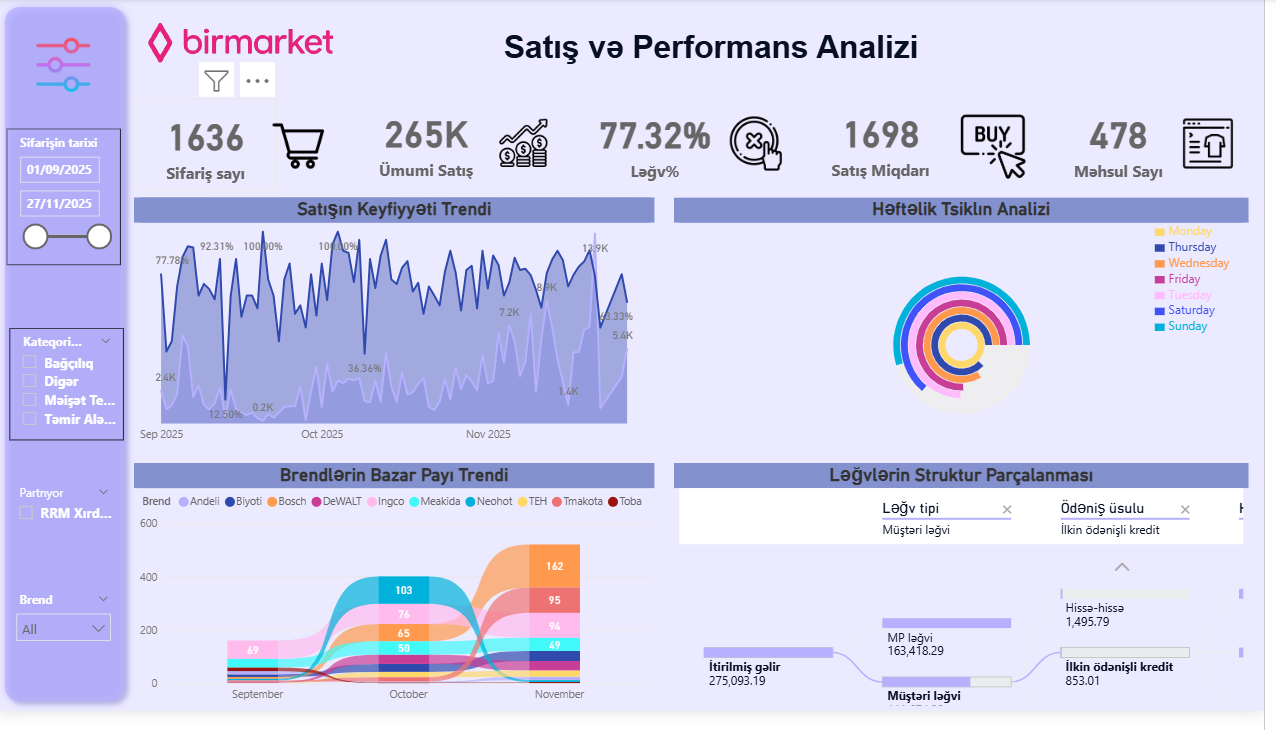

The dashboard page shown, as its layout file describes it:
{"tool":"powerbi","page":{"name":"Əsas səhifə","canvas":[1280,720],"ordinal":1},"visuals":[{"type":"shape","box":[0,0,139.3,719.2],"z":0},{"type":"card","fields":{"Values":["Export.Sifariş sayı"]},"box":[139.3,101.5,143.8,92.4],"z":1000},{"type":"card","fields":{"Values":["Export.Ümumi Satış"]},"box":[354.3,101.5,159,86.3],"z":2000},{"type":"card","fields":{"Values":["Export.Ləğv"]},"box":[596.6,96.9,136.3,98.4],"z":3000},{"type":"card","fields":{"Values":["Export.Məhsul Sayı"]},"box":[1059.9,103,145.4,86.3],"z":4000},{"type":"card","fields":{"Values":["Export.Satış Miqdarı"]},"box":[831.3,101.5,122.7,86.3],"z":5000},{"type":"areaChart","title":"Satışın Keyfiyyəti Trendi","fields":{"Y":["Export.Ümumi Satış"],"Category":["Export.Sifarişin tarixi"],"Y2":["Export.Ləğv%"]},"box":[139.3,201.4,525.4,255.9],"z":6000},{"type":"ribbonChart","title":"Brendlərin Bazar Payı Trendi","fields":{"Category":["Export.Sifarişin tarixi.Variation.Date Hierarchy.Month","Export.Sifarişin tarixi.Variation.Date Hierarchy.Day"],"Y":["Export.Sifariş sayı"],"Series":["Dim_Brend.Brend"]},"box":[139.3,469.4,525.4,249.8],"z":7000},{"type":"decompositionTreeVisual","title":"Ləğvlərin Struktur Parçalanması","fields":{"Analyze":["Export.İtirilmiş gəlir"],"ExplainBy":["Export.Ləğv tipi","Export.Ödəniş üsulu","Export.Həftənin günü"]},"box":[684.4,469.4,579.9,249.8],"z":8000},{"type":"reactRadialChartF56816441CDA4609A764E20CE1E2AE56","title":"Həftəlik Tsiklın Analizi","fields":{"category":["Export.Həftənin günü"],"measure":["Export.Sifariş sayı"]},"box":[684.4,201.4,579.9,277.1],"z":9000},{"type":"slicer","fields":{"Values":["Export.Sifarişin tarixi"]},"box":[11.3,132.3,115.3,138],"z":10000},{"type":"slicer","fields":{"Values":["Export.Kateqoriya Qrupu"]},"box":[13.2,332.6,115.3,113.4],"z":11000},{"type":"textbox","box":[354.4,26.1,734.9,61.4],"z":12000},{"type":"image","box":[125.8,15.3,276.2,81.3],"z":13000},{"type":"slicer","fields":{"Values":["Export.Partnyor"]},"box":[11.3,485.7,115.3,73.7],"z":14000},{"type":"slicer","fields":{"Values":["Export.Brend"]},"box":[11.3,593.4,115.3,94.5],"z":15000},{"type":"image","box":[10.8,35.1,114.9,64.9],"z":16000},{"type":"image","box":[734.4,113.6,65.1,66.6],"z":17000},{"type":"image","box":[266.5,118.1,77.2,62.1],"z":18000},{"type":"image","box":[502.7,116.6,59.1,59.1],"z":19000},{"type":"image","box":[953.9,112.1,106,75.7],"z":20000},{"type":"image","box":[1167.5,113.6,112.1,66.6],"z":21000}]}

Visuals, with their boxes in screenshot pixels (x1, y1, x2, y2), scaled from the page's 1280x720 canvas onto the 1276x730 screenshot:
shape: {"left": 0, "top": 0, "right": 139, "bottom": 729}
card - Export.Sifariş sayı: {"left": 139, "top": 103, "right": 282, "bottom": 197}
card - Export.Ümumi Satış: {"left": 353, "top": 103, "right": 512, "bottom": 190}
card - Export.Ləğv: {"left": 595, "top": 98, "right": 731, "bottom": 198}
card - Export.Məhsul Sayı: {"left": 1057, "top": 104, "right": 1202, "bottom": 192}
card - Export.Satış Miqdarı: {"left": 829, "top": 103, "right": 951, "bottom": 190}
"Satışın Keyfiyyəti Trendi" areaChart: {"left": 139, "top": 204, "right": 663, "bottom": 464}
"Brendlərin Bazar Payı Trendi" ribbonChart: {"left": 139, "top": 476, "right": 663, "bottom": 729}
"Ləğvlərin Struktur Parçalanması" decompositionTreeVisual: {"left": 682, "top": 476, "right": 1260, "bottom": 729}
"Həftəlik Tsiklın Analizi" reactRadialChartF56816441CDA4609A764E20CE1E2AE56: {"left": 682, "top": 204, "right": 1260, "bottom": 485}
slicer - Export.Sifarişin tarixi: {"left": 11, "top": 134, "right": 126, "bottom": 274}
slicer - Export.Kateqoriya Qrupu: {"left": 13, "top": 337, "right": 128, "bottom": 452}
textbox: {"left": 353, "top": 26, "right": 1086, "bottom": 89}
image: {"left": 125, "top": 16, "right": 401, "bottom": 98}
slicer - Export.Partnyor: {"left": 11, "top": 492, "right": 126, "bottom": 567}
slicer - Export.Brend: {"left": 11, "top": 602, "right": 126, "bottom": 697}
image: {"left": 11, "top": 36, "right": 125, "bottom": 101}
image: {"left": 732, "top": 115, "right": 797, "bottom": 183}
image: {"left": 266, "top": 120, "right": 343, "bottom": 183}
image: {"left": 501, "top": 118, "right": 560, "bottom": 178}
image: {"left": 951, "top": 114, "right": 1057, "bottom": 190}
image: {"left": 1164, "top": 115, "right": 1275, "bottom": 183}
